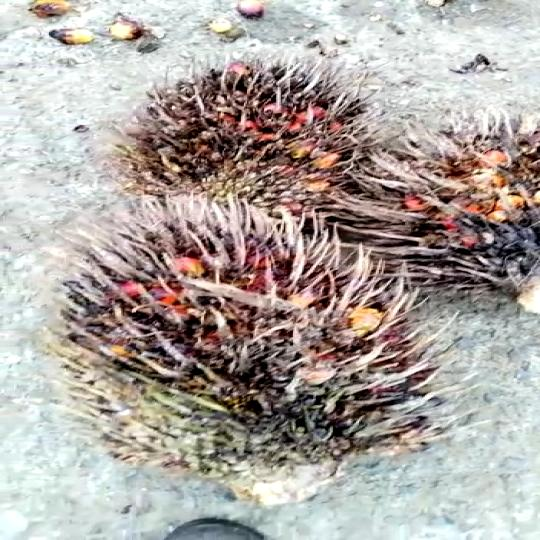terlalu masak: (40, 211, 449, 489), (119, 69, 363, 215)
